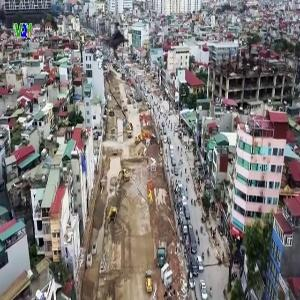drone: (91, 15, 141, 65)
